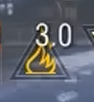1fire: (8, 51, 76, 84)
